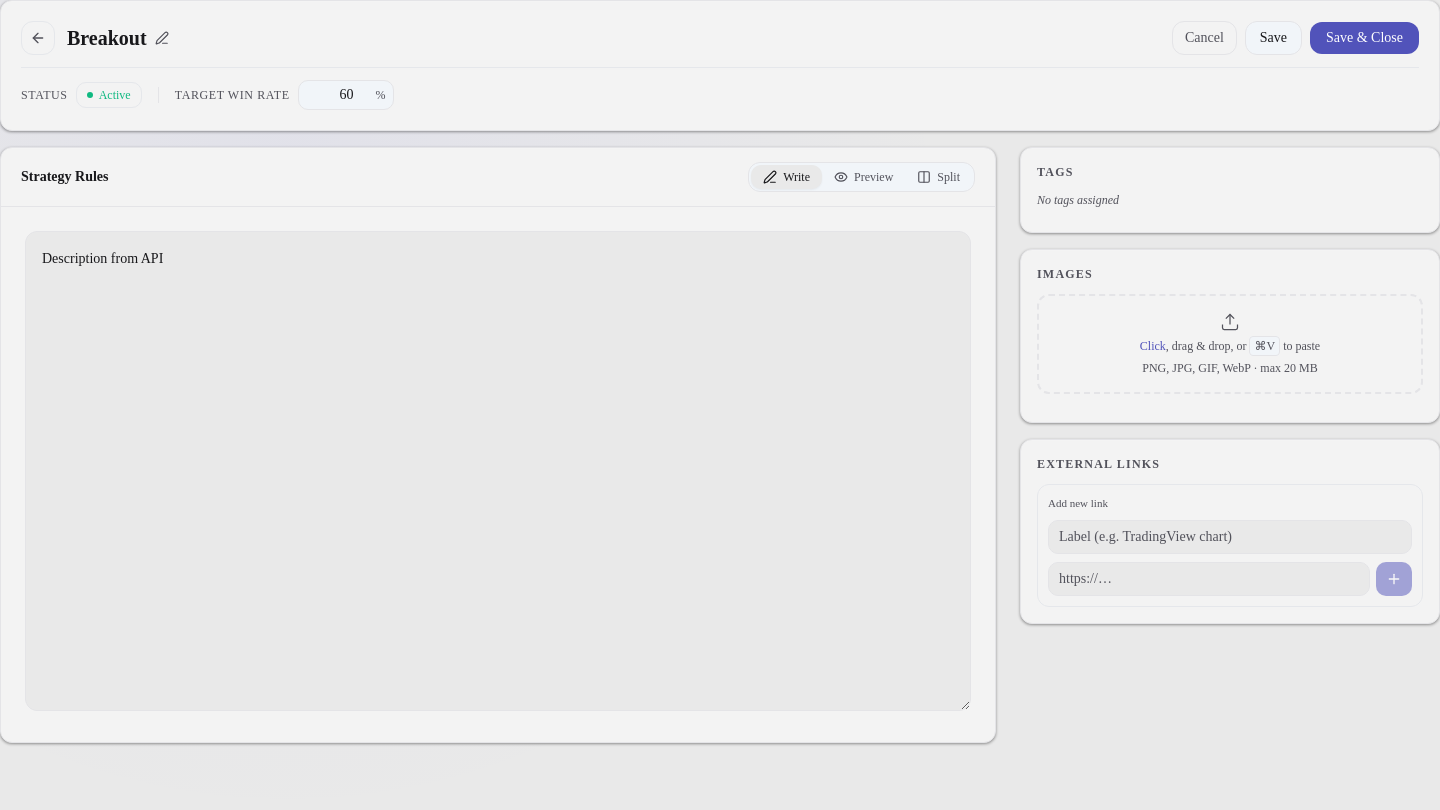
Scenario: PlaybookEditorClient › stays in edit mode on Save and exits edit mode on Save & Close
Click the button "Save".
click(1273, 38)  # box [1245,21,1302,55]
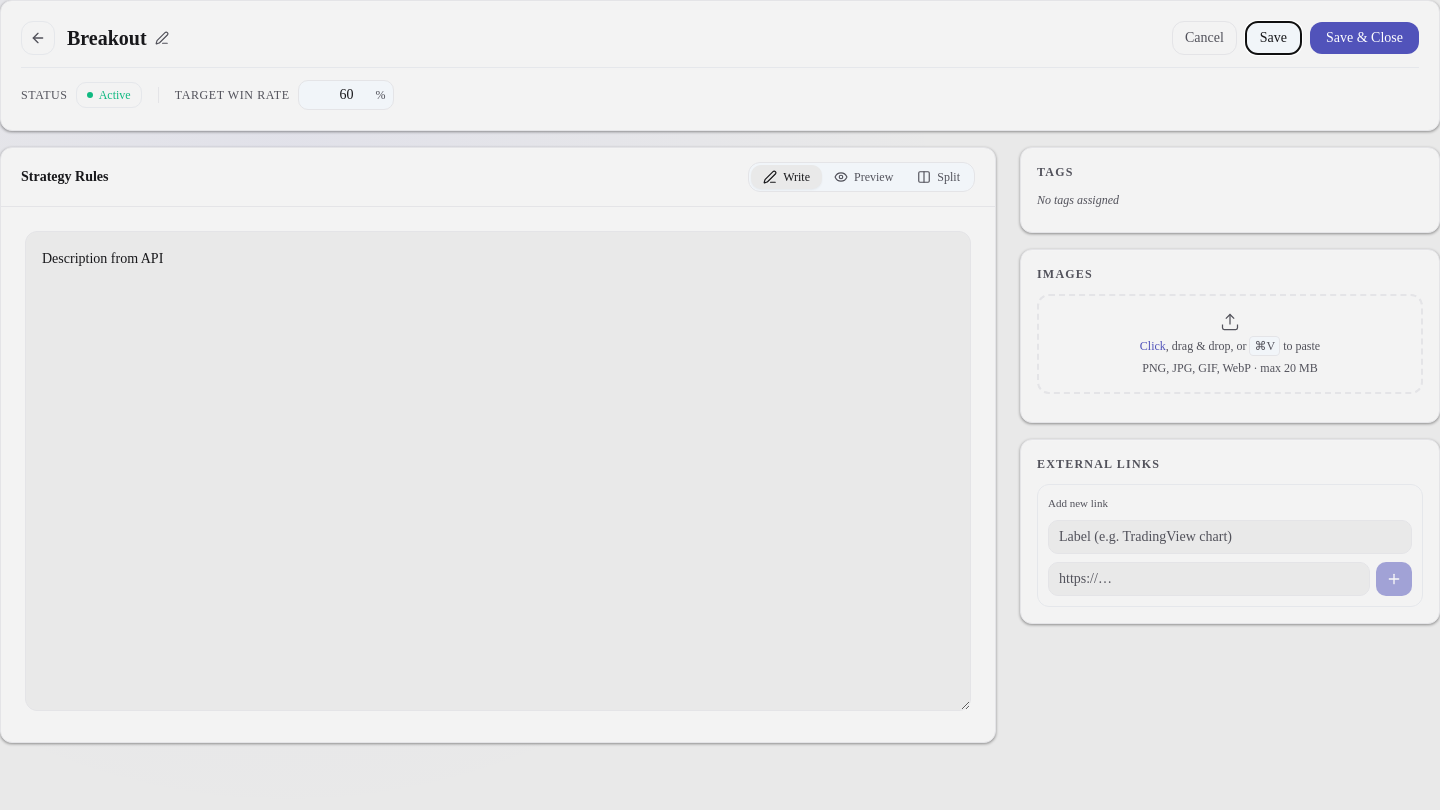
Expected: the text box named "Playbook content (Markdown)" is shown, [25,231,971,711]
Click the button "Save & Close".
click(1364, 38)  # box [1310,22,1419,54]
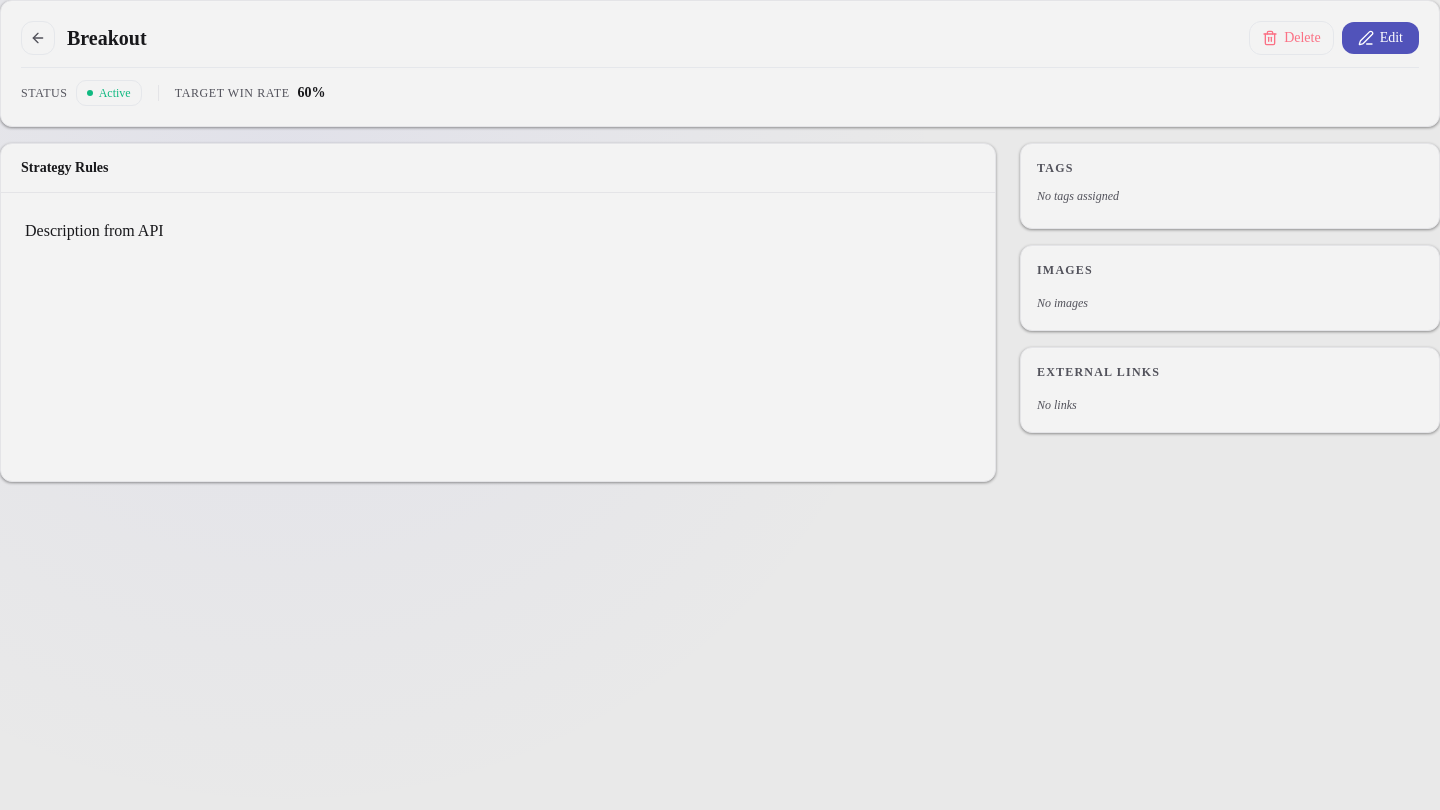
Expected: the button "Edit" is shown, [1342,22,1419,54]
